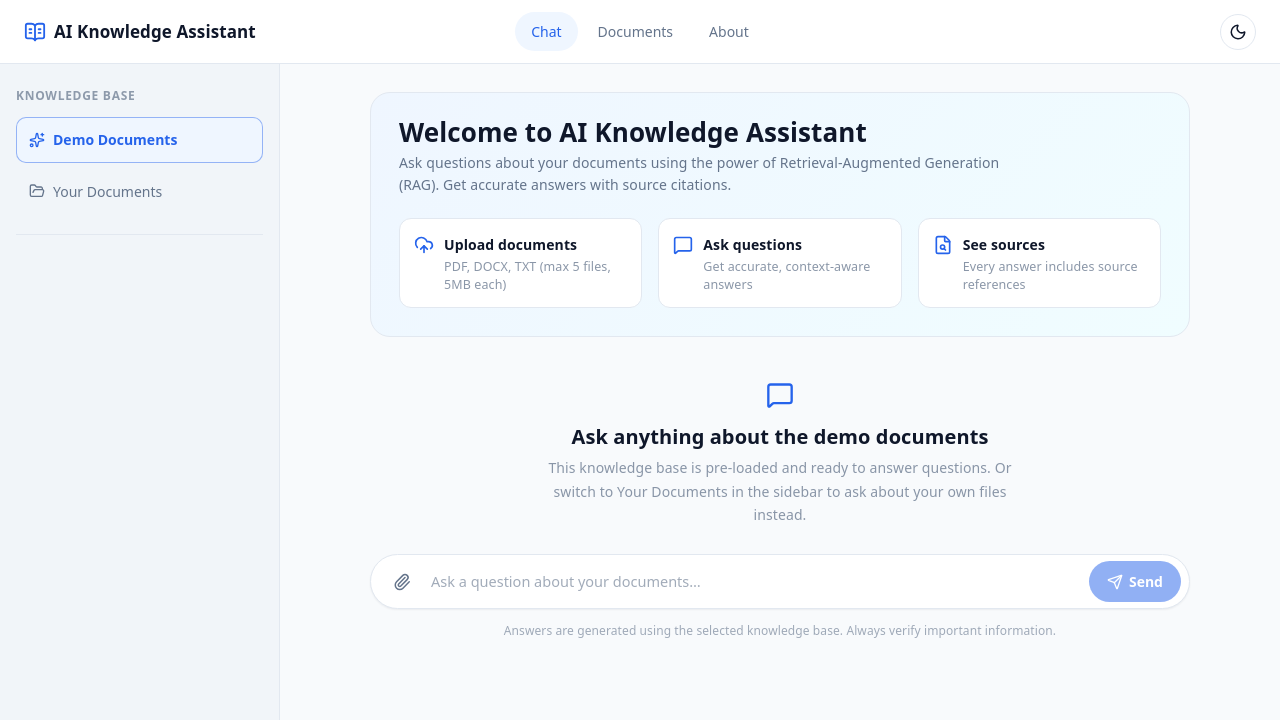
App view switching › switches to the About view when its nav item is clicked
Step 1. Click the button "About" → (729, 32), box [693, 12, 765, 51]
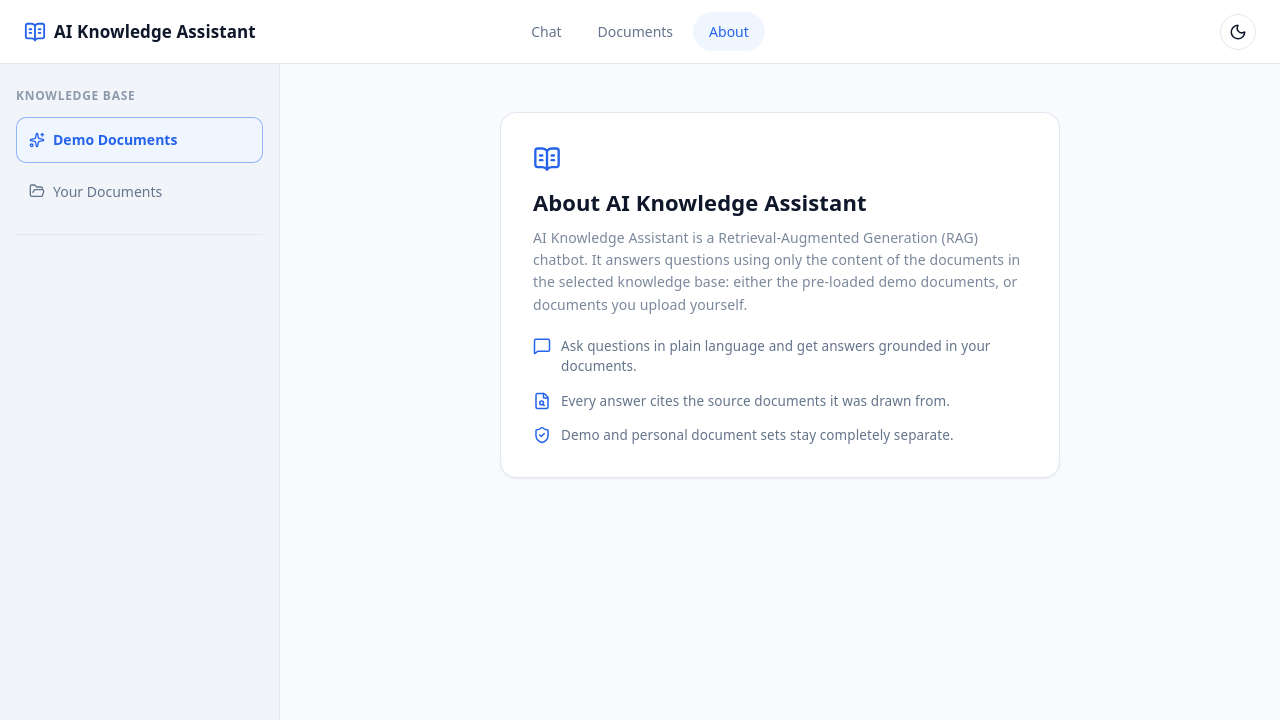
Check: the heading "About AI Knowledge Assistant" is shown, box [533, 187, 867, 217]
